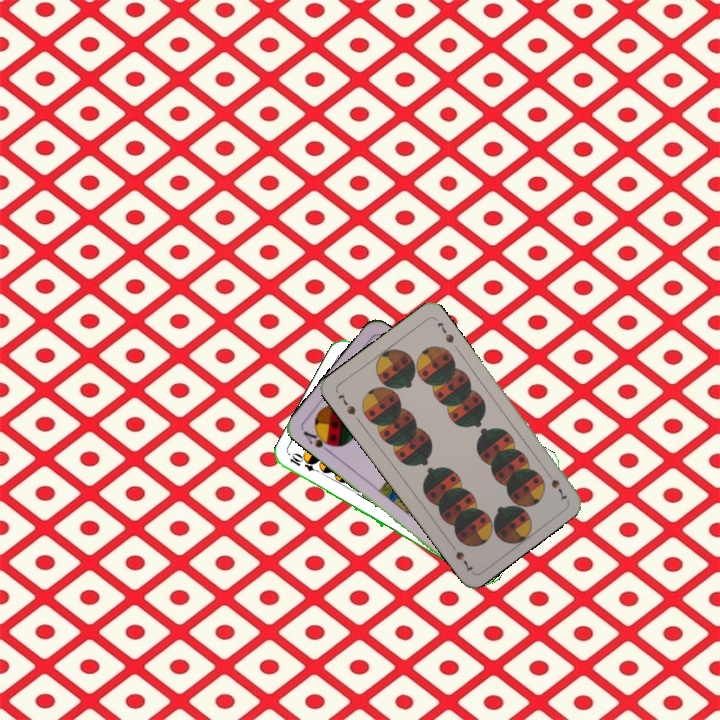E10: (286, 450, 325, 477)
S7: (542, 467, 570, 503), (334, 389, 358, 417)
SA: (299, 427, 337, 456)
